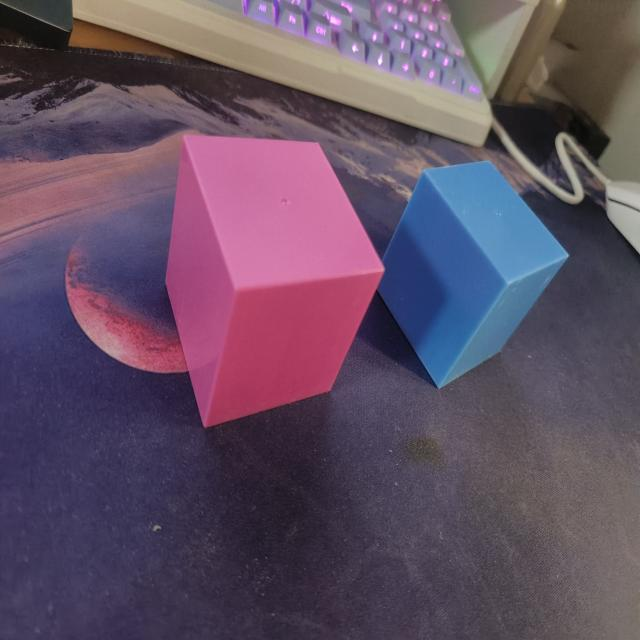blue: (383, 153, 579, 398)
pink: (159, 121, 391, 447)
